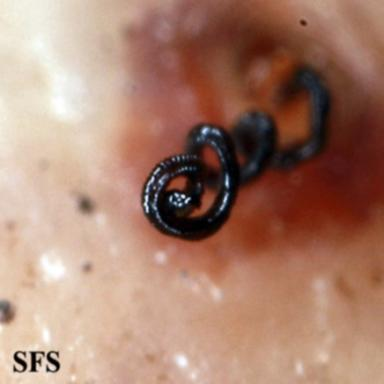Tungiasis: (142, 68, 330, 239)
